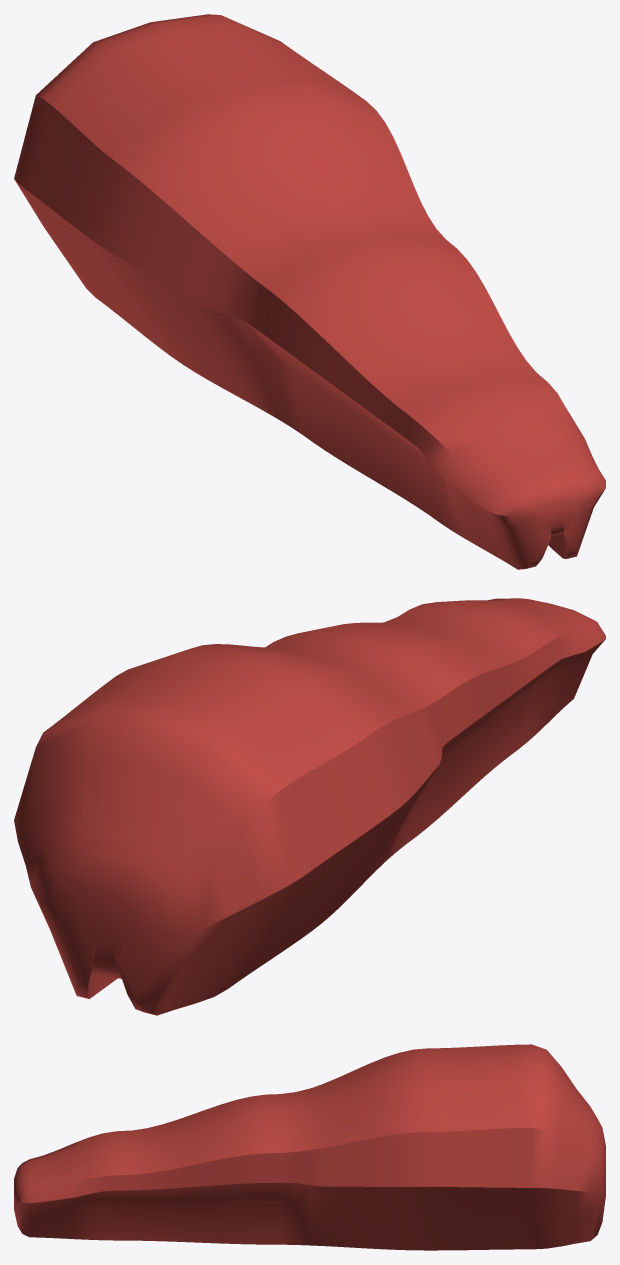
The model's file is streetfighter.glb.
The picture shows the model from 3 angles, top to bottom: view 1: azimuth 30°, elevation 25°; view 2: azimuth 150°, elevation 25°; view 3: azimuth 270°, elevation 25°; orthographic projection. The views are drawn at different scales.
Visible parts, largest first — view 1: lod0; view 2: lod0; view 3: lod0.
Part boxes in pixels (box(x1,y1,x2,y2)): lod0: box(14, 14, 605, 569); lod0: box(14, 598, 605, 1015); lod0: box(14, 1044, 605, 1250).
Size of what is drawn, in the model's own units: 0.38 by 0.315 by 1.
